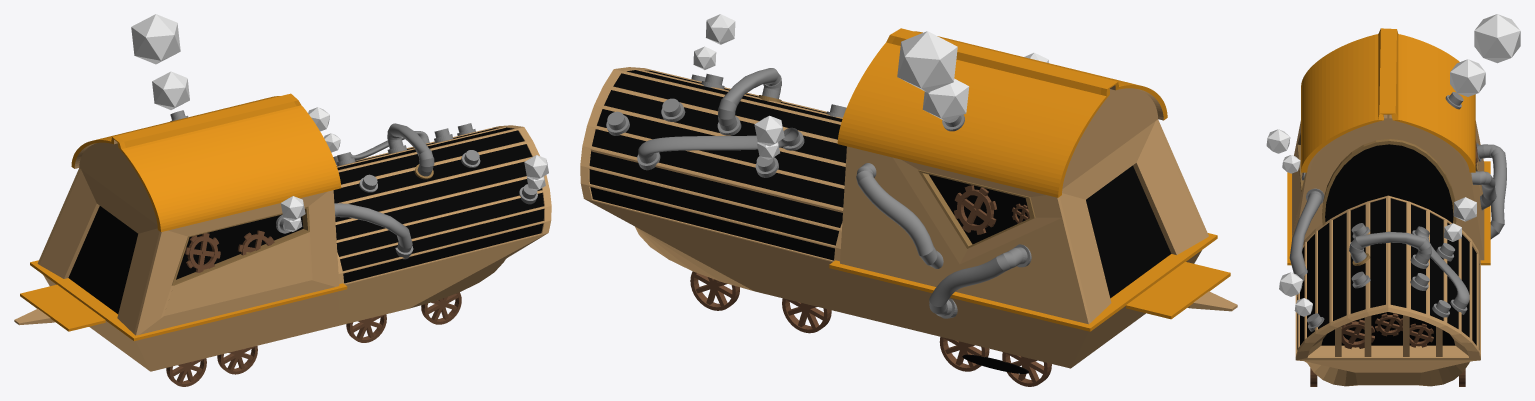
The model's file is Train_Engine.fbx.
3 renders of one model, left to right at view 1: azimuth 30°, elevation 25°; view 2: azimuth 150°, elevation 25°; view 3: azimuth 270°, elevation 25°, orthographic. The views are drawn at different scales.
Visible parts, largest first — view 1: Cube.011, Cube.030, Cube.001, Icosphere.001, Cylinder.023, Cylinder.025, Icosphere, Cylinder.039, Cylinder.009, Cylinder.007, Cylinder.002, Cylinder (+4 smaller); view 2: Cube.011, Cube.030, Cube.001, Icosphere.001, Cylinder.022, Cylinder.019, Cylinder.033, Cylinder.025, Icosphere, Cylinder.054, Cylinder.008, Cylinder.005 (+6 smaller); view 3: Cube.011, Cylinder.031, Icosphere.001, Cylinder.025, Cylinder.019, Cylinder.023, Icosphere, Cube.030, Cylinder.022, Cylinder.033, Cylinder.036, Cylinder.032 (+13 smaller).
Boxes of the visible parts, x1=… form: Cube.011: x1=37, y1=93, x2=551, y2=371; Cube.030: x1=30, y1=260, x2=347, y2=341; Cube.001: x1=20, y1=284, x2=105, y2=331; Icosphere.001: x1=131, y1=14, x2=180, y2=64; Cylinder.023: x1=334, y1=203, x2=413, y2=259; Cylinder.025: x1=387, y1=123, x2=434, y2=179; Icosphere: x1=152, y1=71, x2=189, y2=109; Cylinder.039: x1=184, y1=233, x2=220, y2=272; Cylinder.009: x1=421, y1=292, x2=461, y2=324; Cylinder.007: x1=217, y1=346, x2=257, y2=374; Cylinder.002: x1=166, y1=358, x2=206, y2=386; Cylinder: x1=346, y1=314, x2=386, y2=342; Cube.011: x1=580, y1=28, x2=1208, y2=368; Cube.030: x1=829, y1=233, x2=1217, y2=331; Cube.001: x1=1126, y1=262, x2=1230, y2=319; Icosphere.001: x1=897, y1=31, x2=957, y2=92; Cylinder.022: x1=637, y1=127, x2=804, y2=170; Cylinder.019: x1=929, y1=244, x2=1031, y2=318; Cylinder.033: x1=856, y1=163, x2=943, y2=268; Cylinder.025: x1=717, y1=68, x2=781, y2=135; Icosphere: x1=922, y1=78, x2=969, y2=121; Cylinder.054: x1=954, y1=185, x2=996, y2=234; Cylinder.008: x1=690, y1=271, x2=739, y2=310; Cylinder.005: x1=782, y1=298, x2=831, y2=333; Cube.011: x1=1292, y1=28, x2=1484, y2=386; Cylinder.031: x1=1322, y1=139, x2=1456, y2=225; Icosphere.001: x1=1474, y1=14, x2=1520, y2=63; Cylinder.025: x1=1349, y1=231, x2=1431, y2=268; Cylinder.019: x1=1476, y1=143, x2=1506, y2=239; Cylinder.023: x1=1289, y1=188, x2=1324, y2=282; Icosphere: x1=1450, y1=59, x2=1485, y2=96; Cube.030: x1=1287, y1=161, x2=1490, y2=265; Cylinder.022: x1=1411, y1=226, x2=1469, y2=314; Cylinder.033: x1=1471, y1=171, x2=1496, y2=210; Cylinder.036: x1=1341, y1=319, x2=1374, y2=348; Cylinder.032: x1=1375, y1=313, x2=1402, y2=336.
Size of the model in its own units: 2744 by 1477 by 1215.
